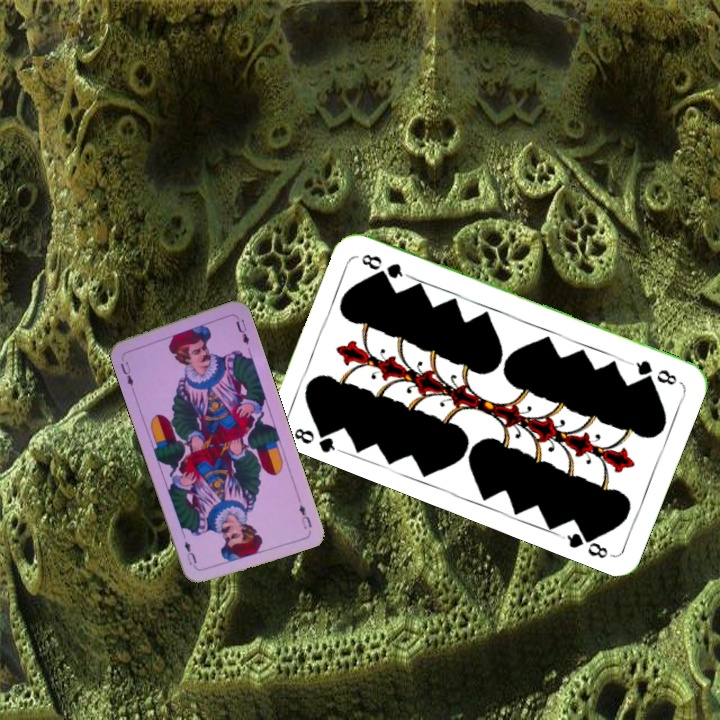EU: (116, 358, 136, 389), (295, 500, 314, 532)
G8: (287, 421, 344, 455), (626, 356, 680, 388)
